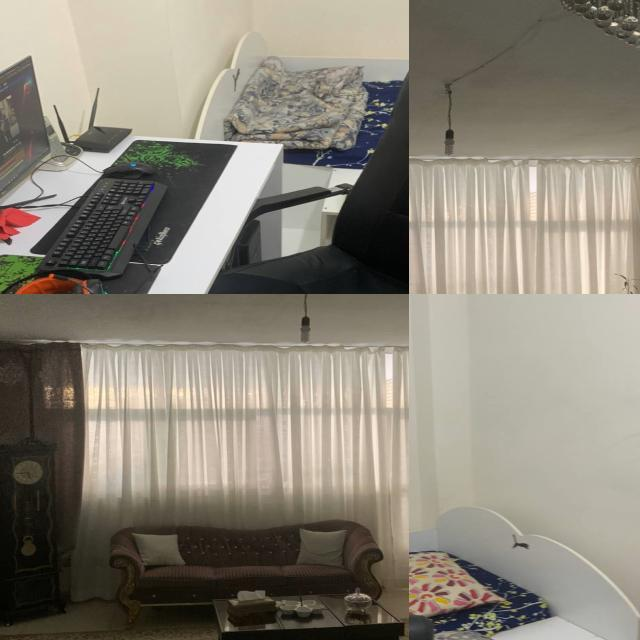Floor: (0, 600, 190, 639), (373, 573, 409, 618)
Wall: (490, 294, 640, 612), (95, 0, 251, 138)
